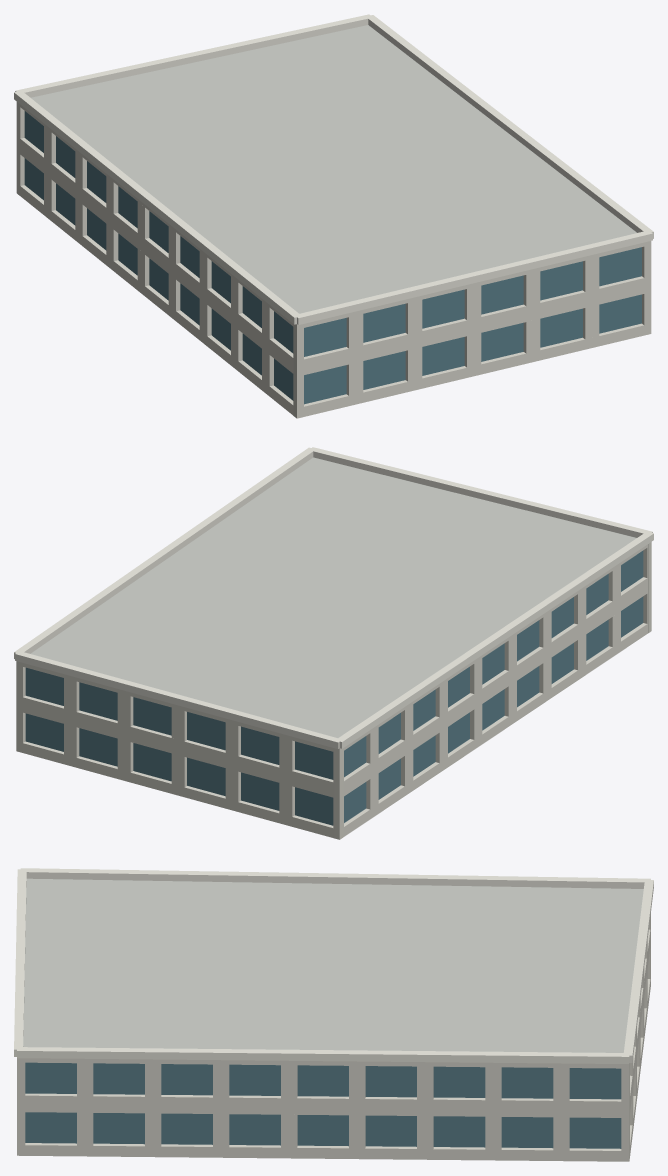
File: sb_1556523870.far.glb
3 views of the same model, one above another, from view 1: azimuth 30°, elevation 25°; view 2: azimuth 150°, elevation 25°; view 3: azimuth 270°, elevation 25° (orthographic). The views are drawn at different scales.
Visible parts, largest first — view 1: roof, wall, glass, trim; view 2: roof, wall, glass, trim; view 3: roof, wall, glass, trim.
Part boxes in pixels (bbox=[...]): roof: bbox=[31, 25, 636, 313]; wall: bbox=[16, 102, 651, 418]; glass: bbox=[24, 111, 641, 404]; trim: bbox=[14, 14, 653, 324]; roof: bbox=[30, 457, 636, 737]; wall: bbox=[16, 542, 651, 839]; glass: bbox=[25, 550, 643, 825]; trim: bbox=[14, 447, 653, 748]; roof: bbox=[23, 878, 643, 1052]; wall: bbox=[17, 913, 650, 1161]; glass: bbox=[25, 1062, 621, 1148]; trim: bbox=[14, 868, 653, 1063].
Size of the model in its own units: 24.54 by 6.44 by 35.17.
